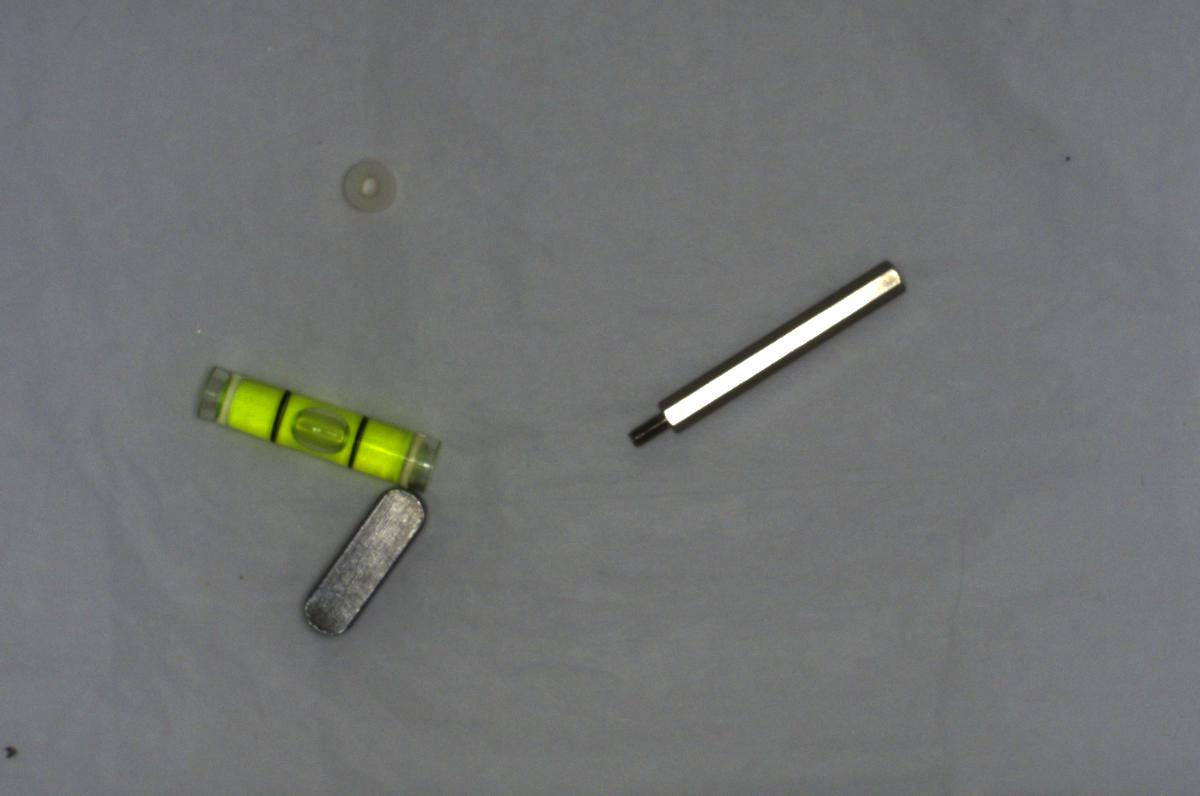Hexagonal steel column: (618, 252, 915, 461)
Horizontal bubble: (191, 361, 439, 489)
Keybar: (292, 483, 433, 641)
Plastic cushion pillar: (328, 154, 413, 213)
